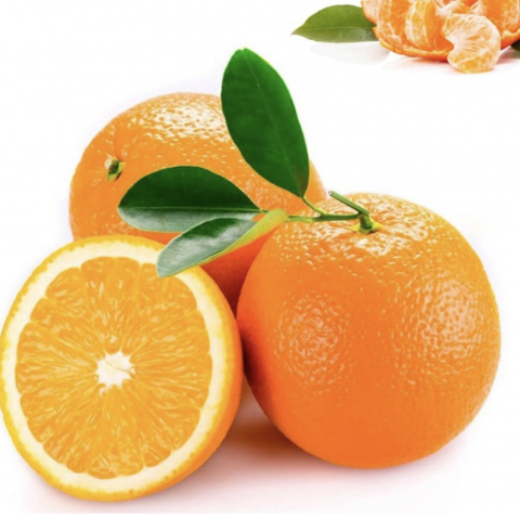orange: (218, 163, 512, 482), (60, 87, 354, 345)
